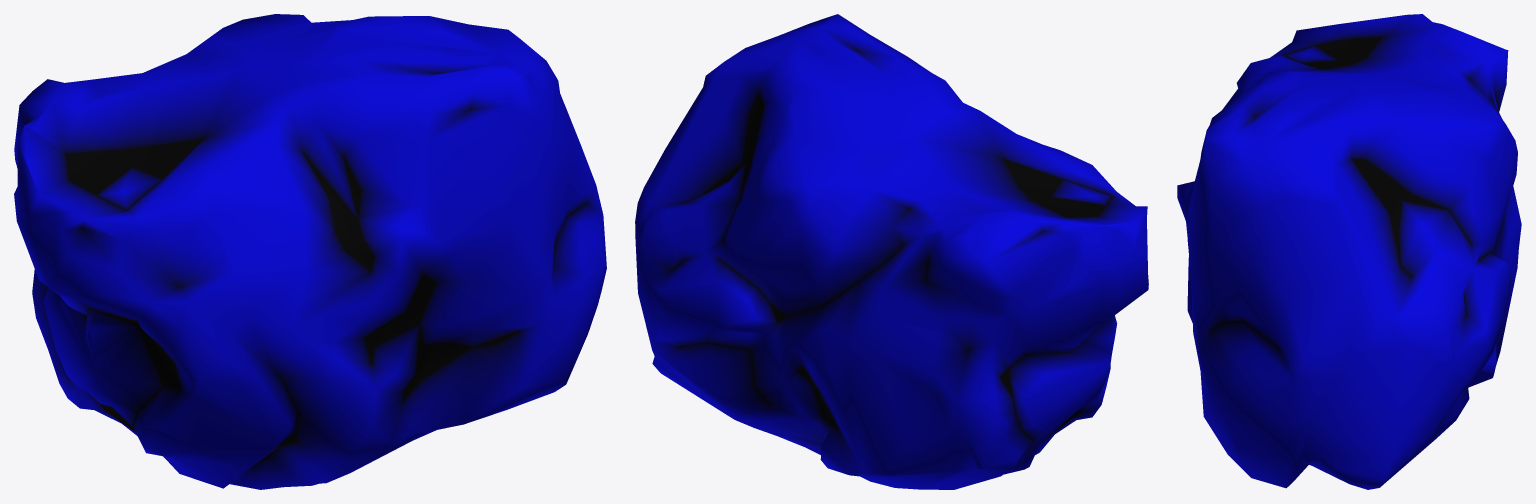
The model's file is Cave_Freeform2.fbx.
3 views of the same model, side by side, from view 1: azimuth 30°, elevation 25°; view 2: azimuth 150°, elevation 25°; view 3: azimuth 270°, elevation 25° (orthographic). The views are drawn at different scales.
Visible parts, largest first — view 1: Cave_Freeform2; view 2: Cave_Freeform2; view 3: Cave_Freeform2.
Part boxes in pixels (x1,y1,x2,y2): Cave_Freeform2: (14, 14, 606, 489); Cave_Freeform2: (635, 14, 1148, 489); Cave_Freeform2: (1177, 14, 1521, 489).
Size of what is drawn, in the model's own units: 1.51 by 1.11 by 0.898.
